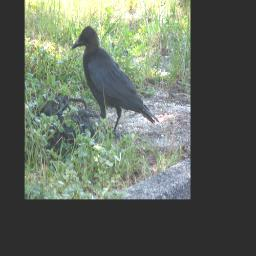Crow: (71, 25, 160, 140)
